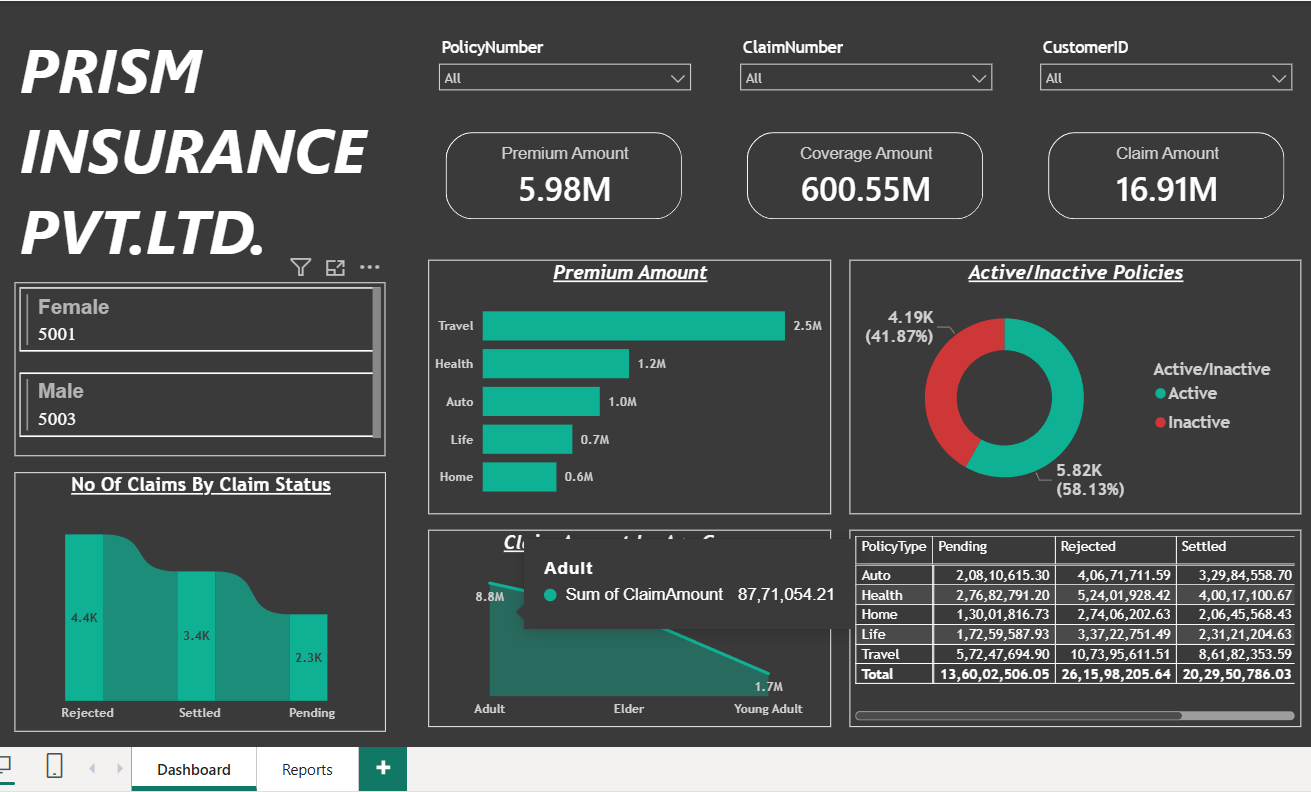

The dashboard page shown, as its layout file describes it:
{"tool":"powerbi","page":{"name":"Dashboard","canvas":[1280,720],"ordinal":0},"visuals":[{"type":"slicer","fields":{"Values":["InsuranceData.PolicyNumber"]},"box":[415.8,30.2,263.5,79.6],"z":0},{"type":"slicer","fields":{"Values":["InsuranceData.ClaimNumber"]},"box":[706.7,30.2,263.5,79.6],"z":1000},{"type":"slicer","fields":{"Values":["InsuranceData.CustomerID"]},"box":[996.2,30.2,263.5,79.6],"z":2000},{"type":"textbox","box":[17.1,20,347.1,300],"z":3000},{"type":"cardVisual","fields":{"Data":["Sum(InsuranceData.PremiumAmount)"]},"box":[415.7,110,262.9,118.6],"z":4000},{"type":"cardVisual","fields":{"Data":["Sum(InsuranceData.CoverageAmount)"]},"box":[707.1,110,262.9,118.6],"z":5000},{"type":"cardVisual","fields":{"Data":["Sum(InsuranceData.ClaimAmount)"]},"box":[997.1,110,262.9,118.6],"z":6000},{"type":"multiRowCard","fields":{"Values":["InsuranceData.Gender","CountNonNull(InsuranceData.Gender)"]},"box":[17.1,271.4,358.6,167.1],"z":7000},{"type":"ribbonChart","title":"No Of Claims By Claim Status","fields":{"Category":["InsuranceData.ClaimStatus"],"Y":["CountNonNull(InsuranceData.ClaimStatus)"]},"box":[17.1,454.3,358.6,250],"z":8000},{"type":"barChart","title":"Premium Amount","fields":{"Y":["Sum(InsuranceData.PremiumAmount)"],"Category":["InsuranceData.PolicyType"]},"box":[415.7,250,388.6,245.7],"z":9000},{"type":"lineChart","title":" Claim Amount by Age Group","fields":{"Category":["InsuranceData.Age Group"],"Y":["Sum(InsuranceData.ClaimAmount)"]},"box":[415.7,510,388.6,190],"z":10000},{"type":"donutChart","title":"Active/Inactive Policies","fields":{"Category":["InsuranceData.Active/Inactive"],"Y":["CountNonNull(InsuranceData.Active/Inactive)"]},"box":[822.9,250,435.7,245.7],"z":11000},{"type":"pivotTable","fields":{"Values":["Sum(InsuranceData.CoverageAmount)"],"Rows":["InsuranceData.PolicyType"],"Columns":["InsuranceData.ClaimStatus"]},"box":[823,510,436,190],"z":12000}]}

Visuals, with their boxes on the page's 1280x720 design canvas (x1, y1, x2, y2). These are canvas units, not pixel positions in the 1311x792 screenshot, which may show the page scaled, cropped or inside an application window:
slicer - InsuranceData.PolicyNumber: {"left": 416, "top": 30, "right": 679, "bottom": 110}
slicer - InsuranceData.ClaimNumber: {"left": 707, "top": 30, "right": 970, "bottom": 110}
slicer - InsuranceData.CustomerID: {"left": 996, "top": 30, "right": 1260, "bottom": 110}
textbox: {"left": 17, "top": 20, "right": 364, "bottom": 320}
cardVisual - Sum(InsuranceData.PremiumAmount): {"left": 416, "top": 110, "right": 679, "bottom": 229}
cardVisual - Sum(InsuranceData.CoverageAmount): {"left": 707, "top": 110, "right": 970, "bottom": 229}
cardVisual - Sum(InsuranceData.ClaimAmount): {"left": 997, "top": 110, "right": 1260, "bottom": 229}
multiRowCard - InsuranceData.Gender x CountNonNull(InsuranceData.Gender): {"left": 17, "top": 271, "right": 376, "bottom": 438}
"No Of Claims By Claim Status" ribbonChart: {"left": 17, "top": 454, "right": 376, "bottom": 704}
"Premium Amount" barChart: {"left": 416, "top": 250, "right": 804, "bottom": 496}
" Claim Amount by Age Group" lineChart: {"left": 416, "top": 510, "right": 804, "bottom": 700}
"Active/Inactive Policies" donutChart: {"left": 823, "top": 250, "right": 1259, "bottom": 496}
pivotTable - Sum(InsuranceData.CoverageAmount) x InsuranceData.PolicyType: {"left": 823, "top": 510, "right": 1259, "bottom": 700}
